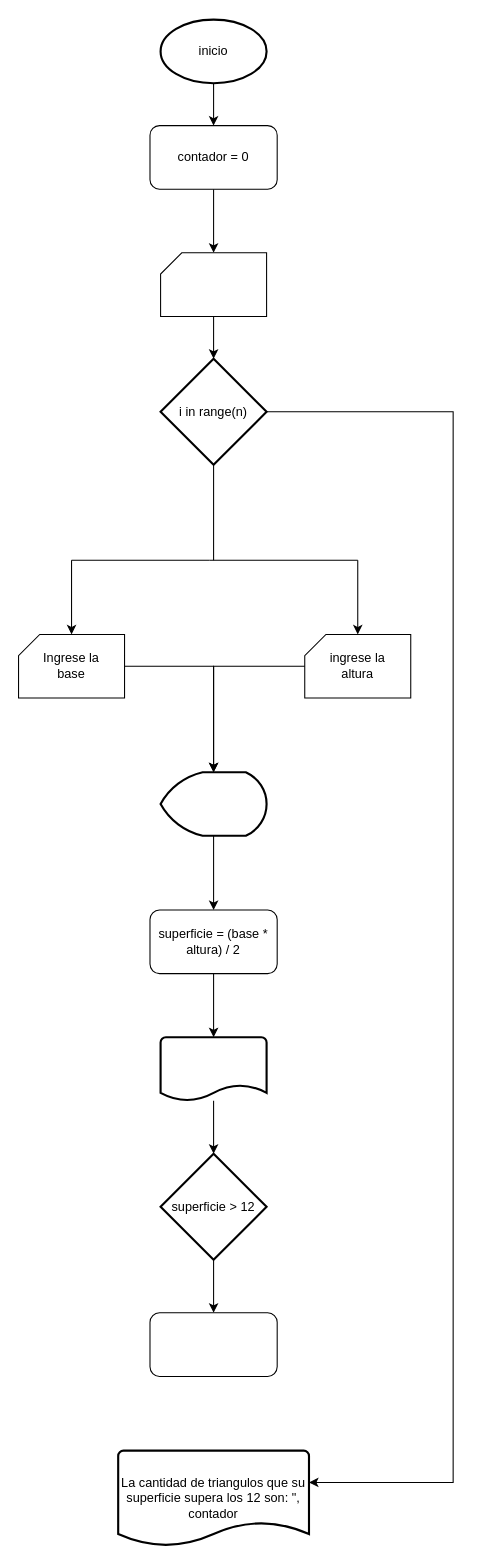
The diagram is 480 pixels wide and 1565 high, and some of its shapes have lost their labels. The shapes that lost their labels are listed below. From the top down, each one's centre as x and y in pixels, then its label:
At point (213, 284): "Ingrese el valor de n".
At point (213, 803): "visualizo datos".
At point (213, 1068): "base, altura, y superficie".
At point (213, 1344): "contador +=1".
